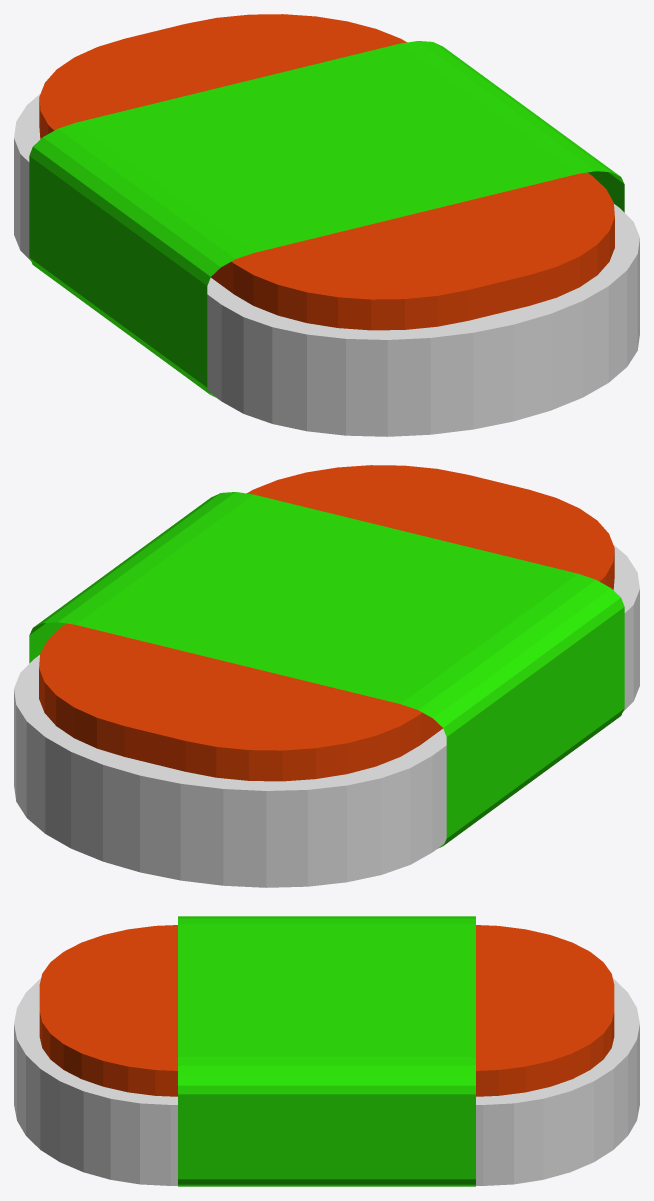
File: SpamMusubiSide.fbx
3 views of the same model, one above another, from view 1: azimuth 30°, elevation 25°; view 2: azimuth 150°, elevation 25°; view 3: azimuth 270°, elevation 25° (orthographic). The views are drawn at different scales.
Parts seen in each view (by area): view 1: Cube, SpamCookedPortion, Cylinder; view 2: Cube, SpamCookedPortion, Cylinder; view 3: Cube, SpamCookedPortion, Cylinder.
Boxes of the visible parts, x1,y1,x2,y2 form: Cube: (29, 41, 624, 397); SpamCookedPortion: (39, 14, 614, 330); Cylinder: (14, 93, 639, 436); Cube: (29, 492, 624, 848); SpamCookedPortion: (39, 465, 614, 781); Cylinder: (14, 544, 639, 887); Cube: (178, 916, 475, 1186); SpamCookedPortion: (39, 925, 614, 1096); Cylinder: (14, 978, 639, 1185).
Size of the model in its own units: 271 by 90 by 420.
